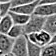cell: (29, 31, 51, 45), (29, 15, 43, 30), (35, 5, 54, 14), (13, 41, 25, 55), (14, 13, 28, 24), (29, 43, 41, 55), (43, 45, 56, 56), (1, 35, 9, 52), (1, 17, 10, 32)
